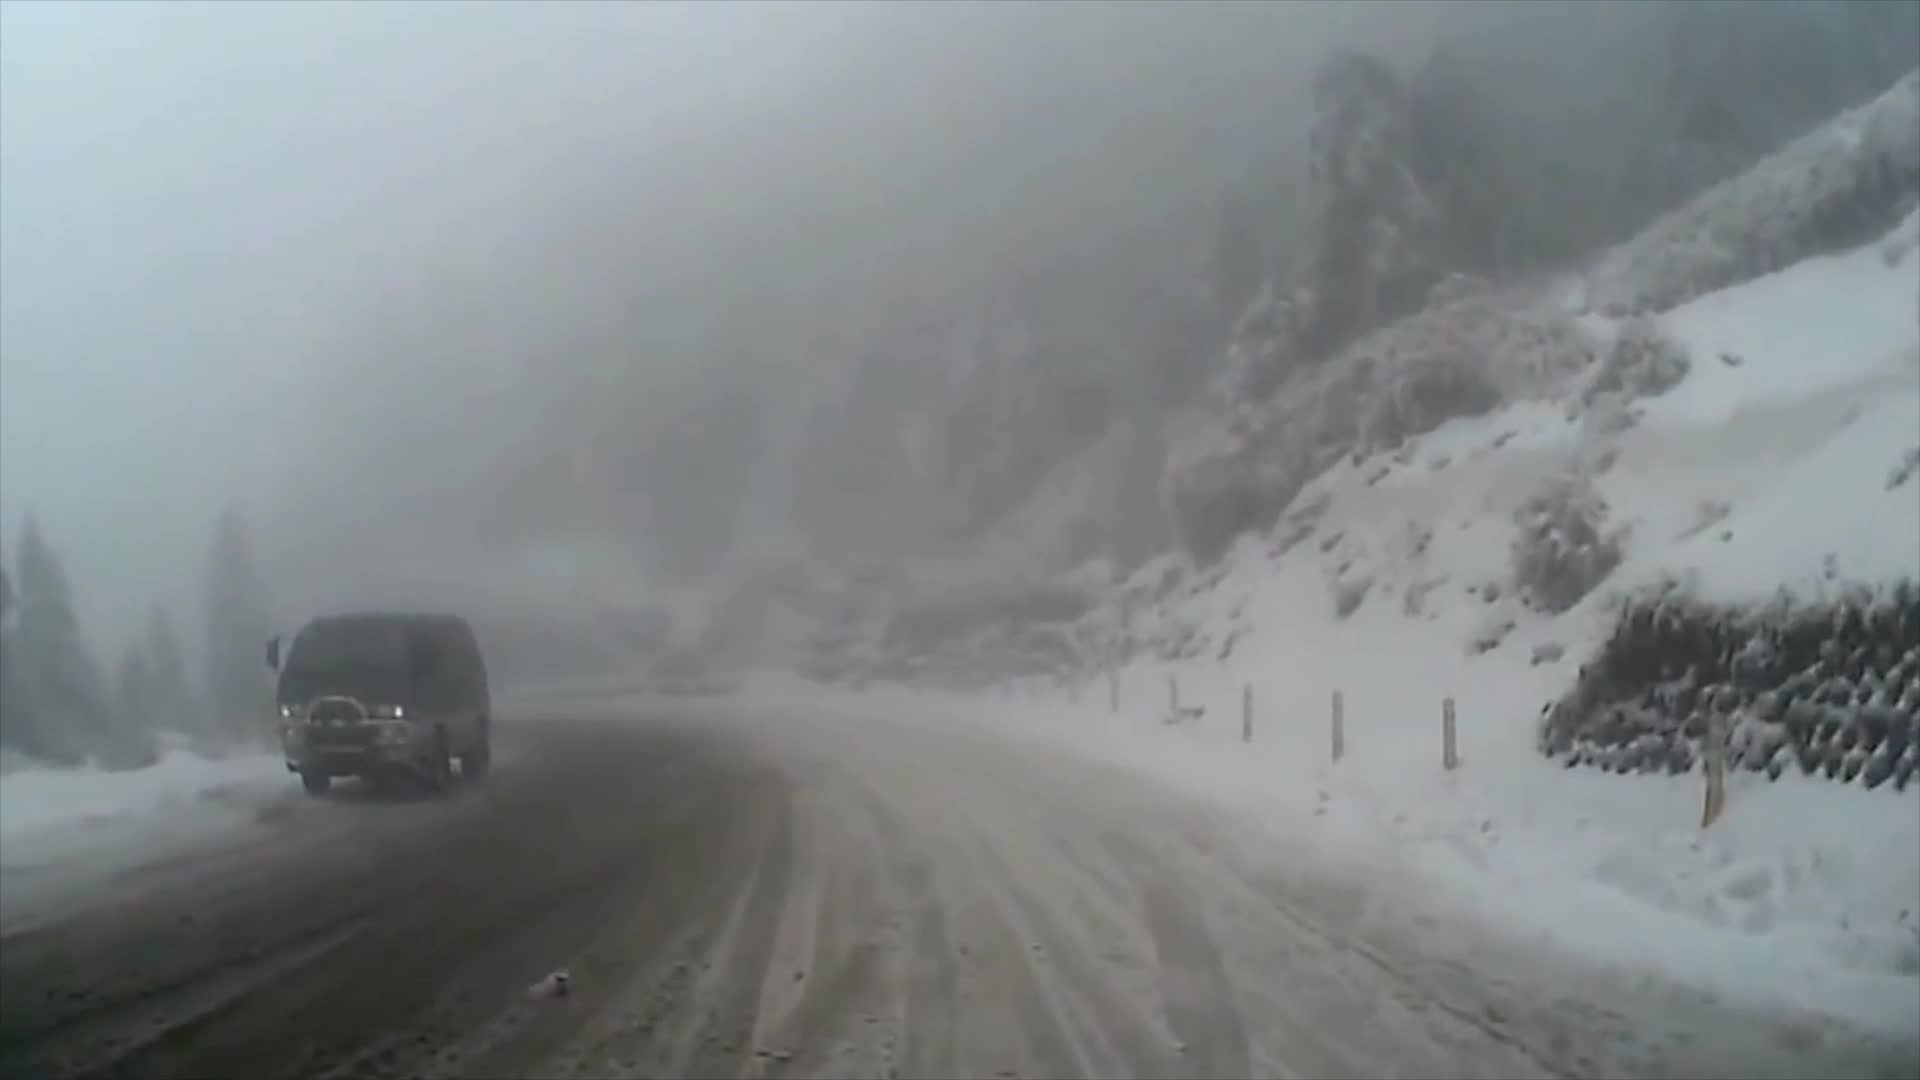vehicle: (262, 609, 493, 796)
